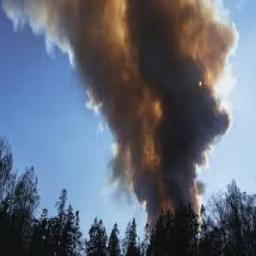Heavy smoke: (6, 1, 256, 226)
